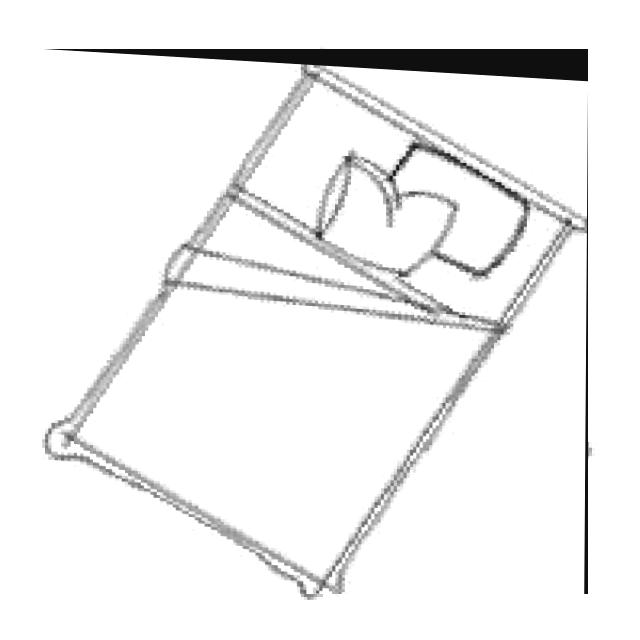bed: (42, 49, 588, 594)
